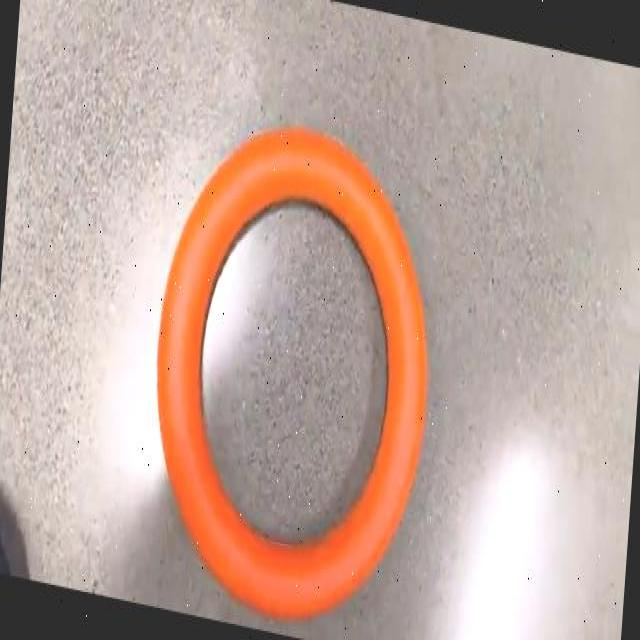note: (157, 127, 427, 617)
